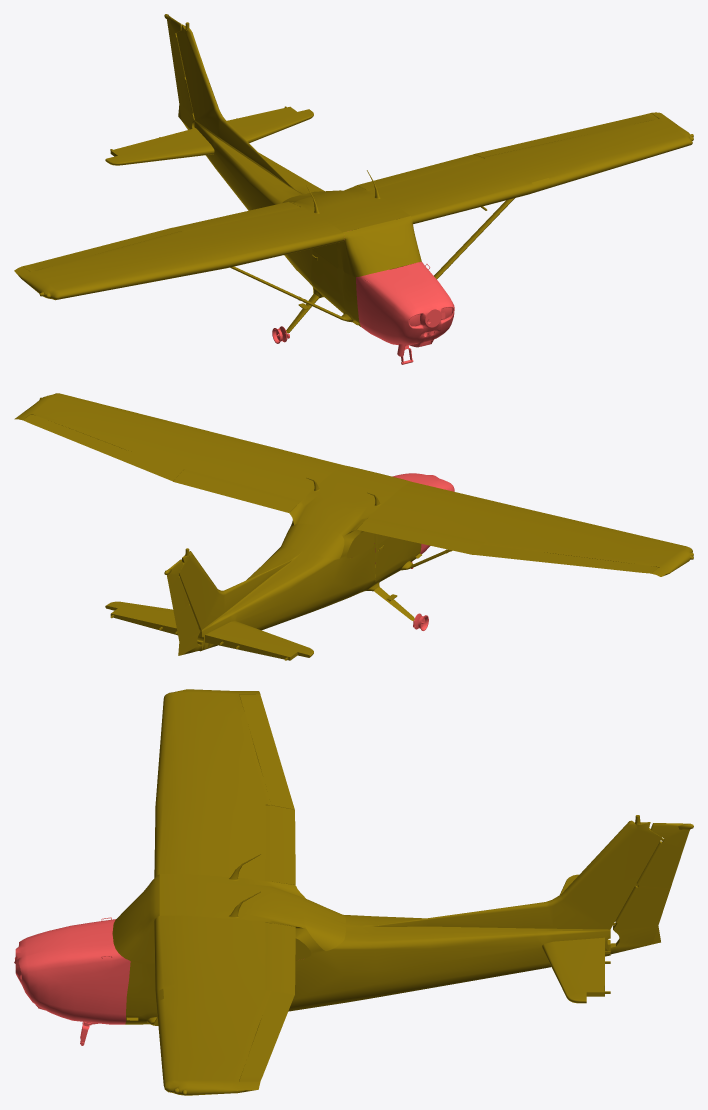
File: body.obj
3 renders of one model, top to bottom at view 1: azimuth 30°, elevation 25°; view 2: azimuth 150°, elevation 25°; view 3: azimuth 270°, elevation 25°, orthographic. The views are drawn at different scales.
Visible parts, largest first — view 1: cessna_172_obj:avion, cessna_172_obj:prednji_deo; view 2: cessna_172_obj:avion, cessna_172_obj:prednji_deo; view 3: cessna_172_obj:avion, cessna_172_obj:prednji_deo.
Boxes of the visible parts, bbox=[...] form: cessna_172_obj:avion: bbox=[14, 14, 693, 333]; cessna_172_obj:prednji_deo: bbox=[272, 261, 454, 364]; cessna_172_obj:avion: bbox=[14, 393, 693, 660]; cessna_172_obj:prednji_deo: bbox=[374, 473, 454, 630]; cessna_172_obj:avion: bbox=[112, 689, 693, 1095]; cessna_172_obj:prednji_deo: bbox=[14, 917, 304, 1045].
Size of the model in its own units: 439 by 117 by 313.
